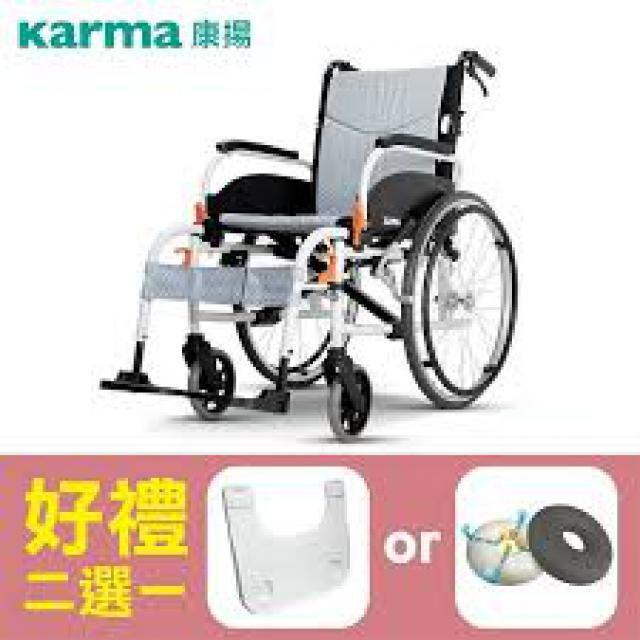wheelchair: (88, 46, 518, 443)
